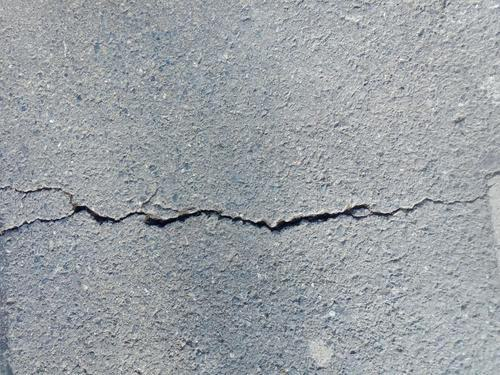Crack: (1, 170, 500, 233)
